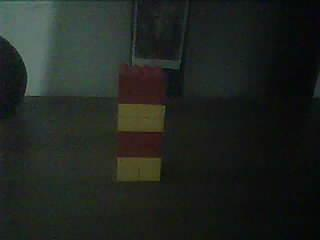lego: (115, 62, 167, 182)
